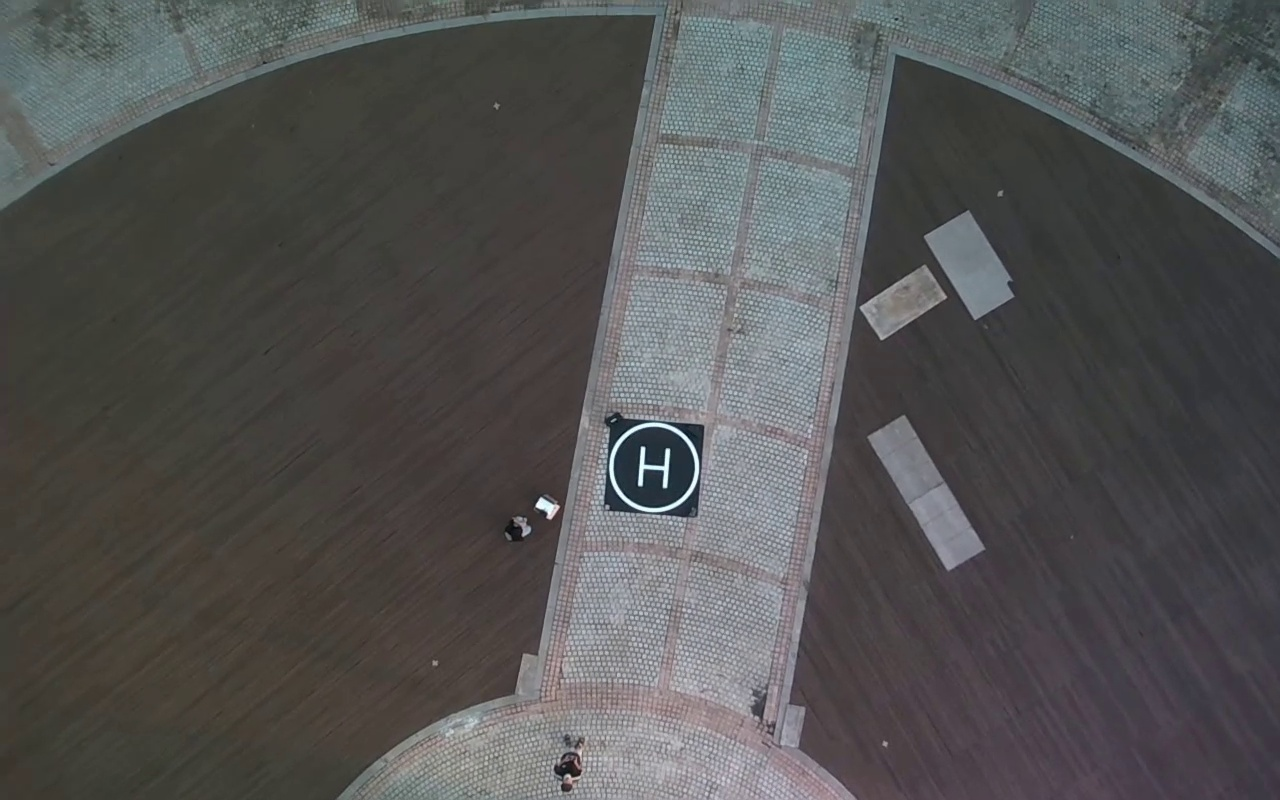H: (635, 446, 674, 489)
heliport: (609, 422, 700, 513)
